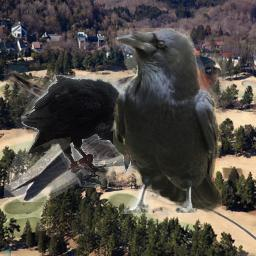Crow: (113, 28, 222, 214), (21, 75, 143, 187)
Swallow: (4, 53, 234, 202)
